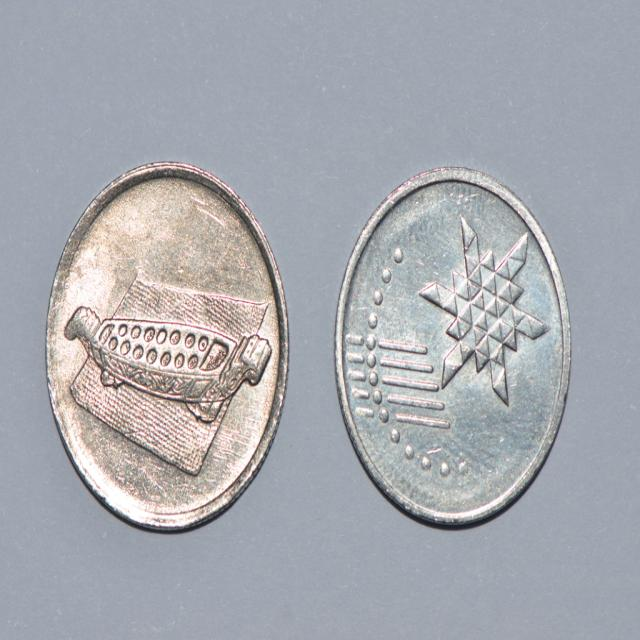Coin: (45, 160, 289, 531), (334, 164, 574, 528)
